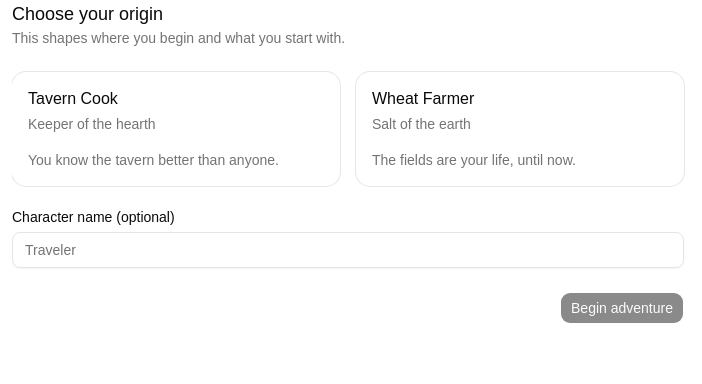
Test: OriginSelect › shows an error message when save creation fails
Expected: the text "Tavern Cook" is shown, [28,90,118,107]
Click the radio button labelled "Tavern Cook" at (176, 129), box [12,72,340,186]
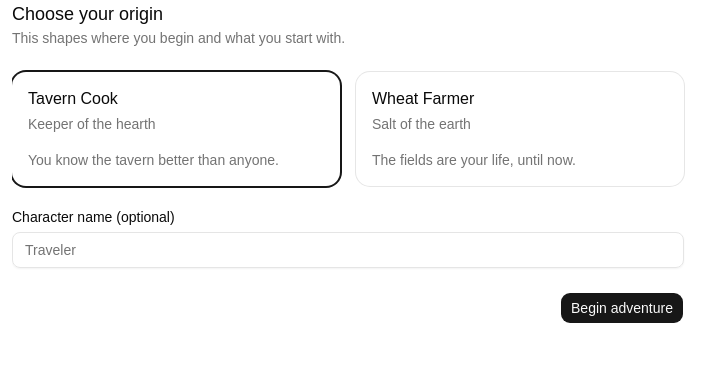
Click the button "Begin adventure" at (622, 308), box [560,292,684,324]
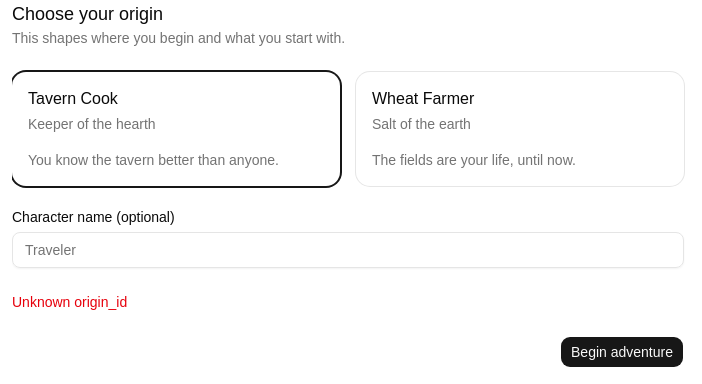
Now the message reads "Unknown origin_id", box [12,294,127,310]
